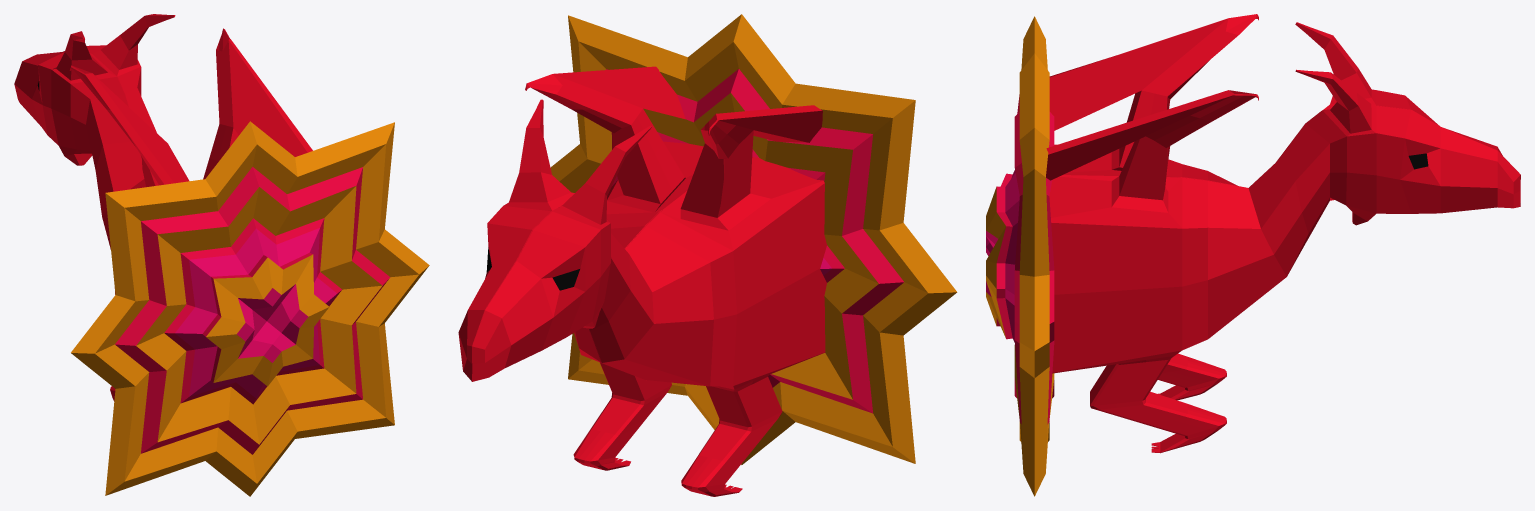
Rendered from FlameTower2.fbx.
3 renders of one model, left to right at view 1: azimuth 30°, elevation 25°; view 2: azimuth 150°, elevation 25°; view 3: azimuth 270°, elevation 25°, orthographic. The views are drawn at different scales.
Visible parts, largest first — view 1: Cube, Cube.003; view 2: Cube.003, Cube; view 3: Cube.003, Cube.
Boxes of the visible parts, bbox=[...] form: Cube: bbox=[71, 121, 429, 496]; Cube.003: bbox=[14, 14, 312, 401]; Cube.003: bbox=[458, 66, 826, 496]; Cube: bbox=[550, 14, 957, 464]; Cube.003: bbox=[1046, 14, 1520, 453]; Cube: bbox=[986, 16, 1054, 496].
Bounding box in the file's own units: 587 × 597 × 700.
